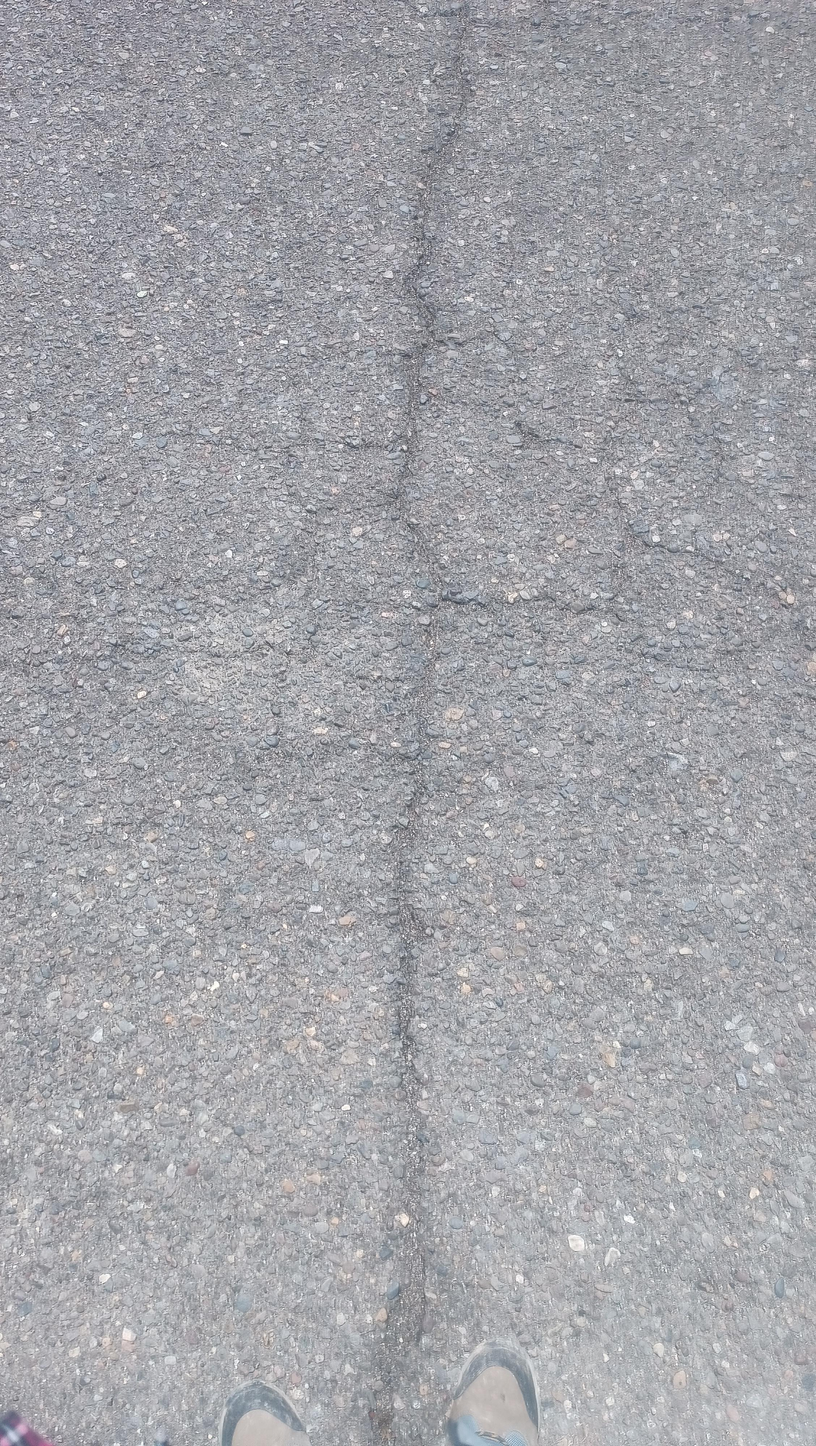GRIETA: (364, 607, 438, 1446), (390, 26, 475, 598)
PIEL DE COCODRILO: (0, 346, 430, 788), (447, 302, 798, 683)
